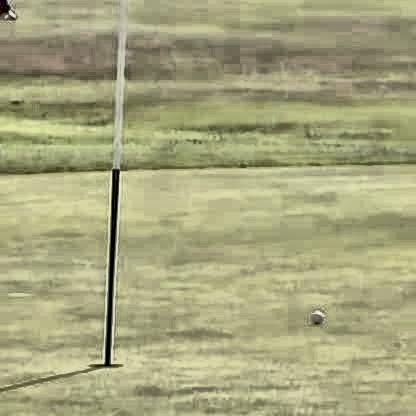golfball: (308, 303, 319, 321)
